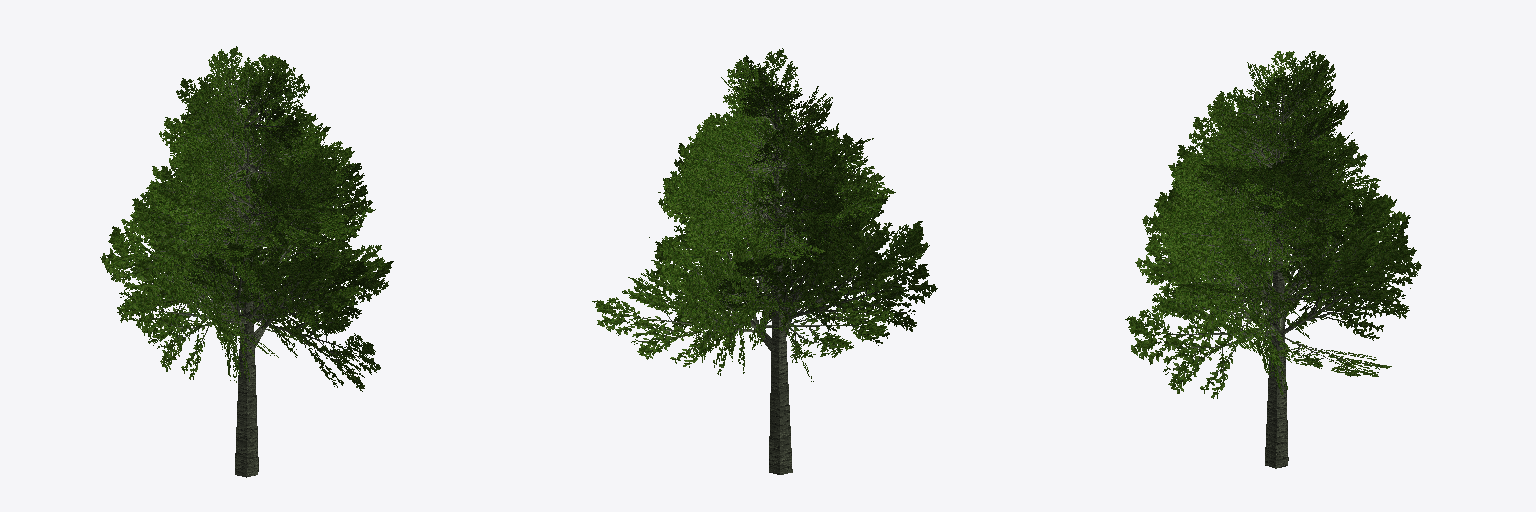
3 views of the same model, side by side, from view 1: azimuth 30°, elevation 25°; view 2: azimuth 150°, elevation 25°; view 3: azimuth 270°, elevation 25° (orthographic).
Visible parts, largest first — view 1: Default; view 2: Default; view 3: Default.
Part boxes in pixels (left/top/right/bottom): Default: left=100, top=46, right=393, bottom=477; Default: left=592, top=48, right=937, bottom=474; Default: left=1125, top=51, right=1421, bottom=468.
Bounding box in the file's own units: 14.53 × 17.3 × 14.16.
Materials: 2 (2 with a texture image).